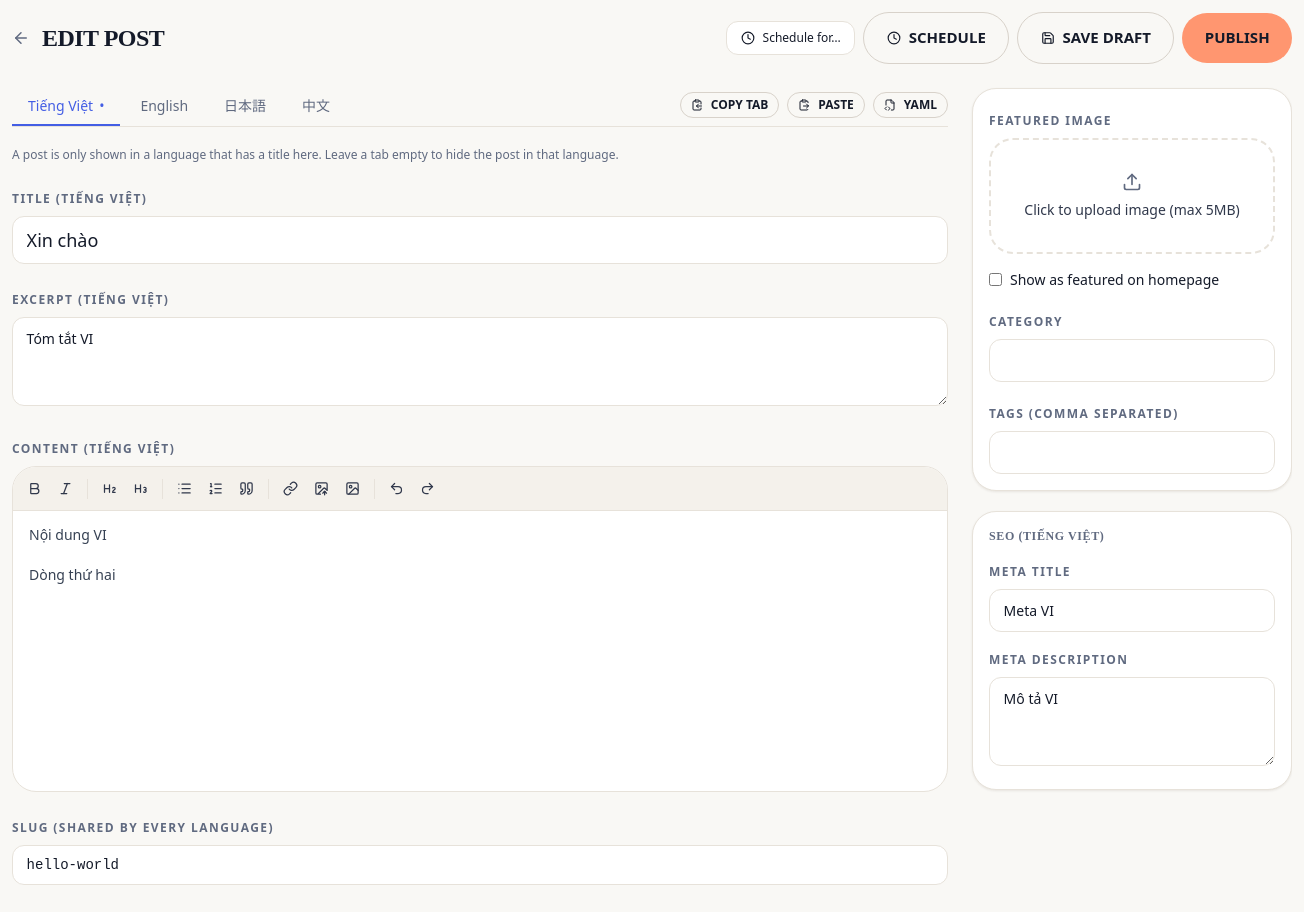
Test: PostEditor YAML view › rejects invalid YAML without touching the fields
Expected: the field labelled "Title (Tiếng Việt)" holds "Xin chào", left=12, top=216, right=948, bottom=264
Click the button "YAML" at (910, 105), box left=873, top=92, right=948, bottom=118
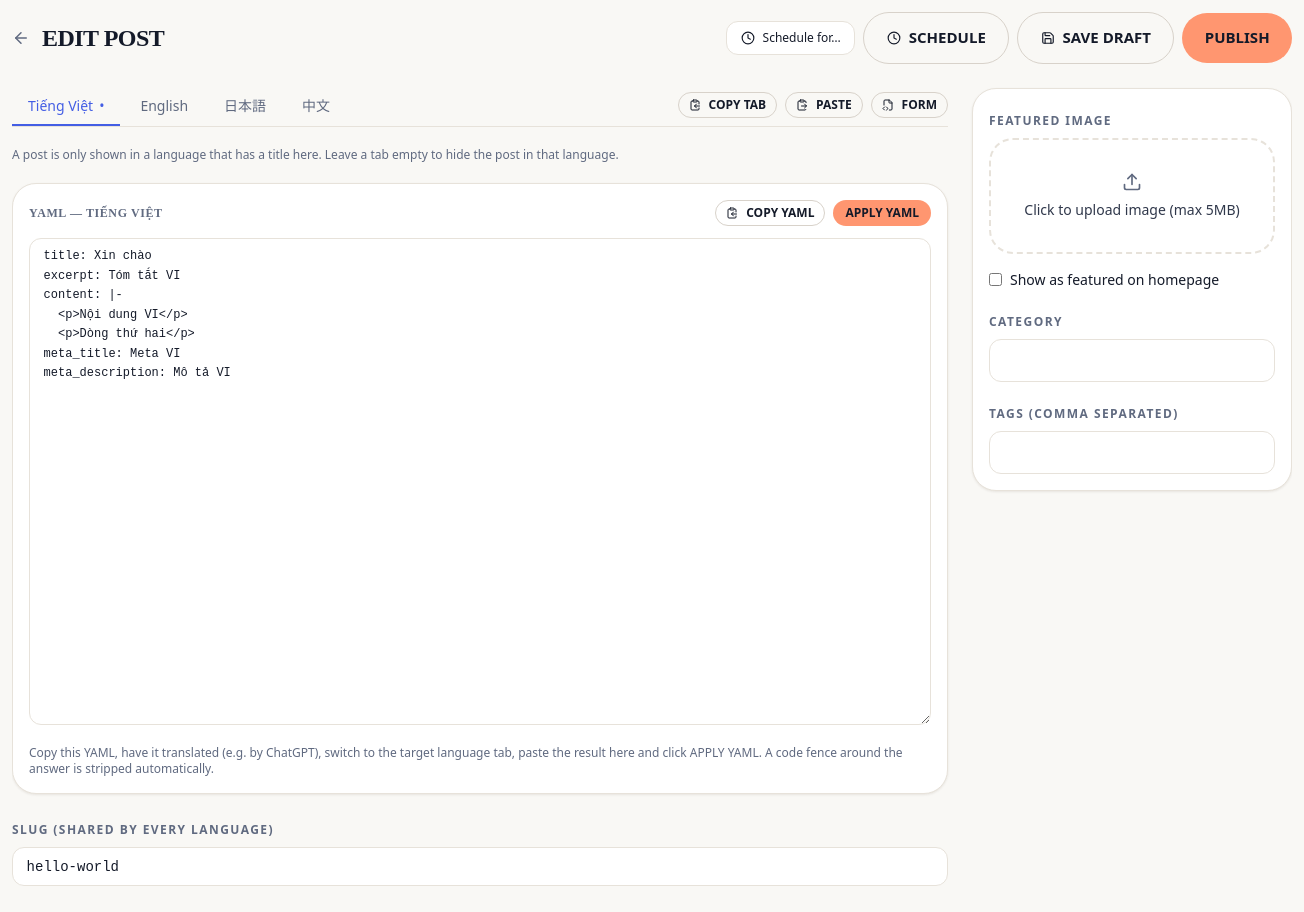
Replace the text in the text box named "yaml fields" with "title: [unclosed" at (480, 482), box left=29, top=238, right=931, bottom=725
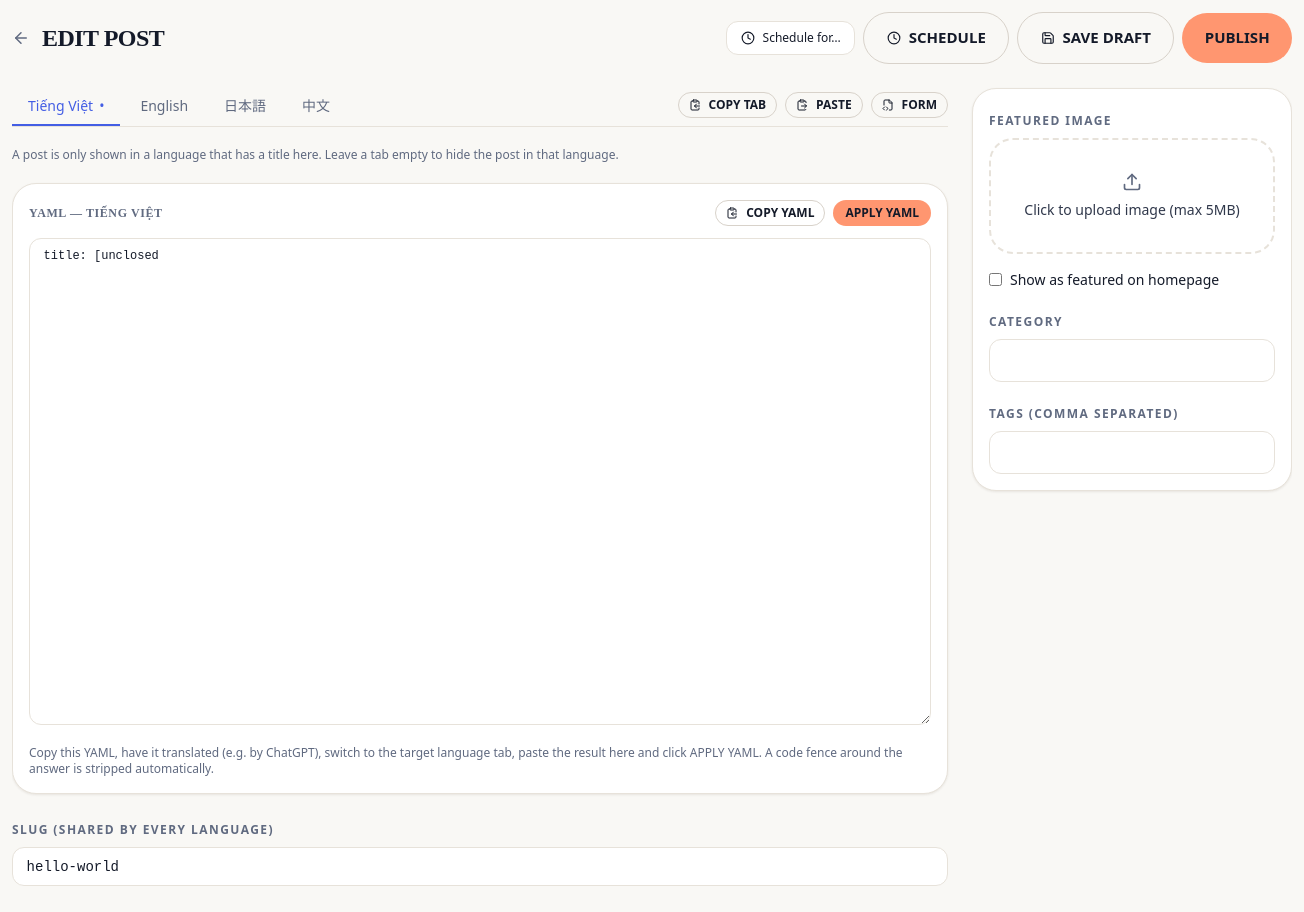
Click the button "APPLY YAML" at (882, 213), box left=834, top=200, right=931, bottom=226
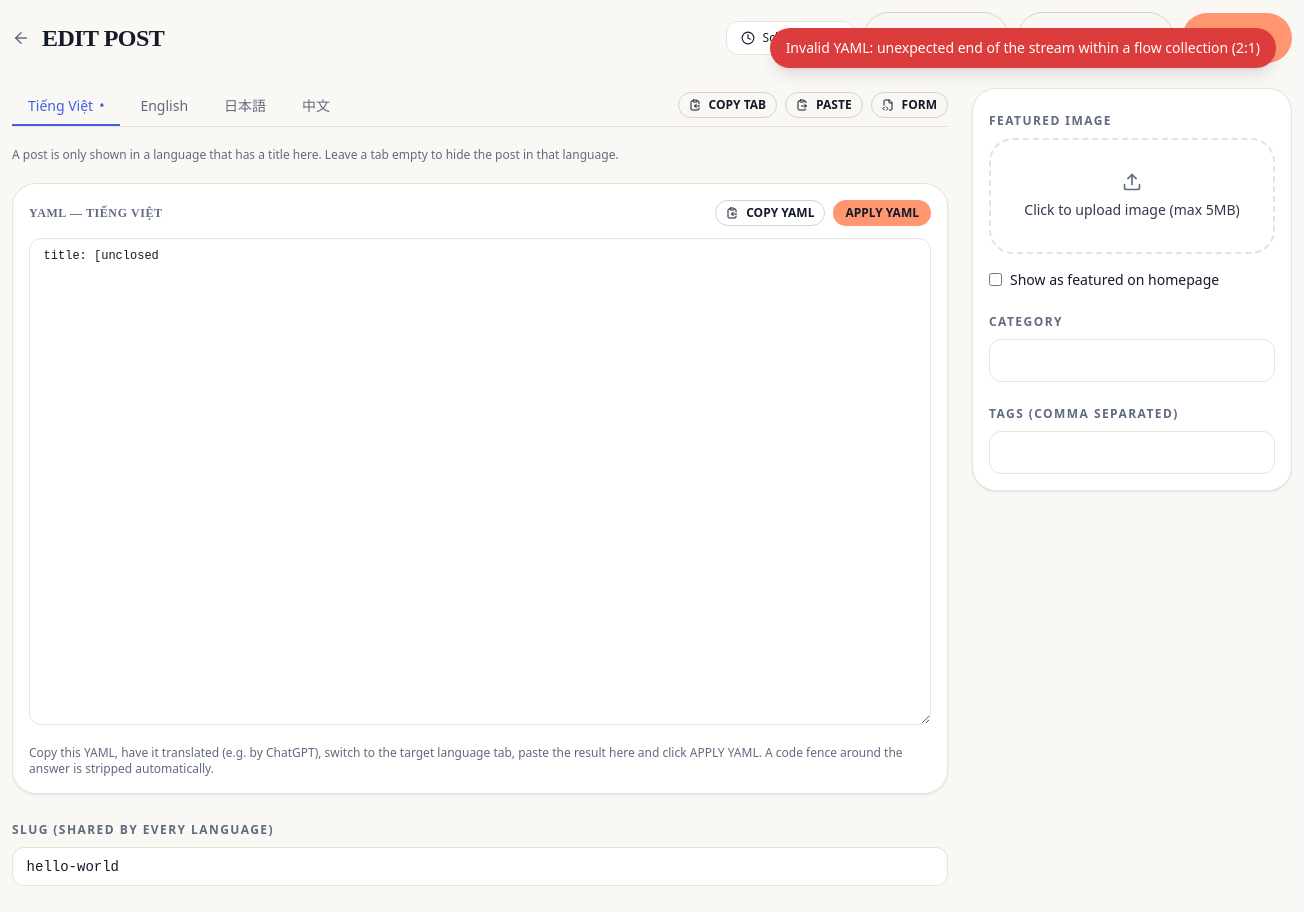
Expected: the text "Invalid YAML" is shown, left=786, top=38, right=1260, bottom=57
Click the button "FORM" at (909, 105), box left=871, top=92, right=948, bottom=118
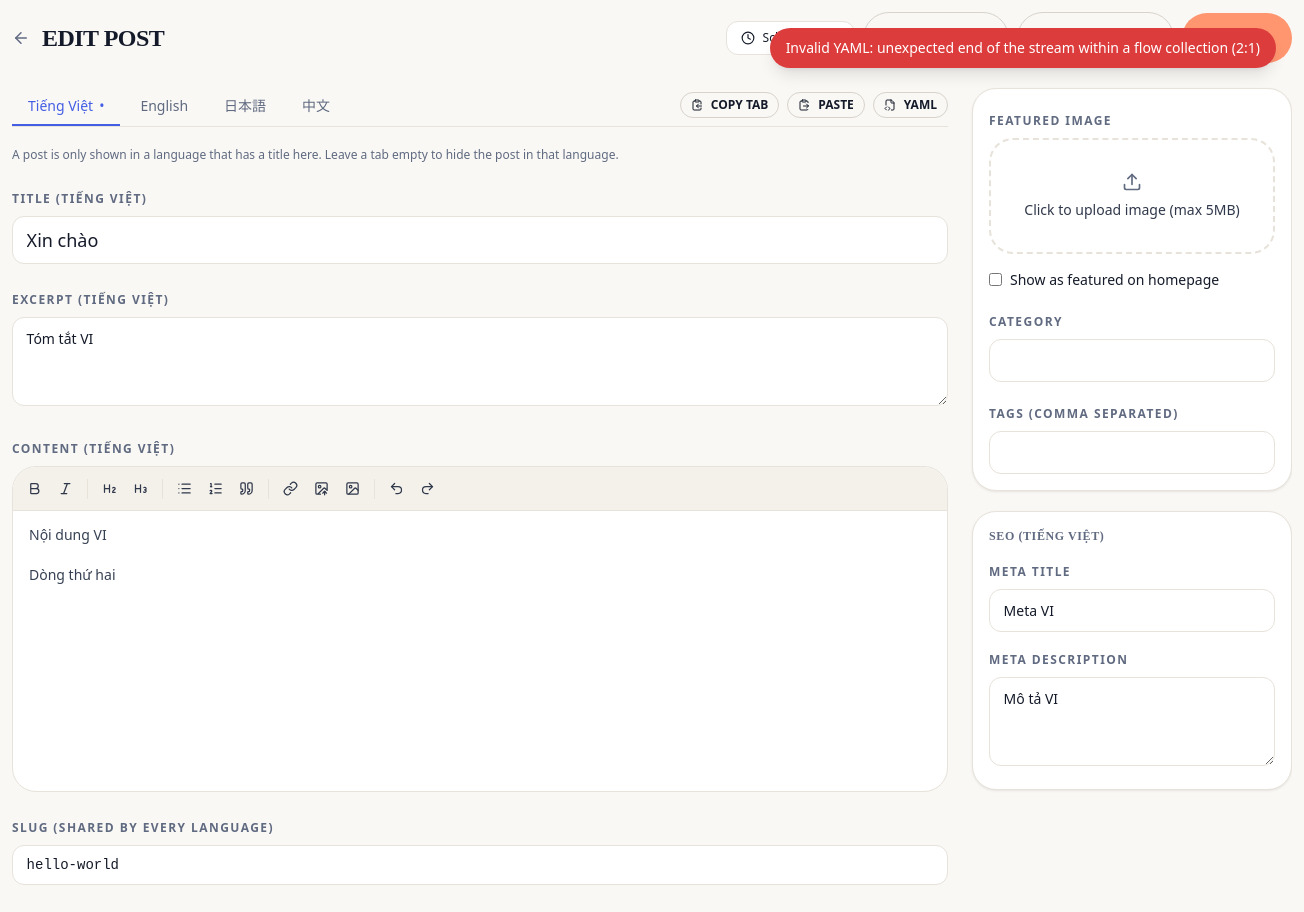
Expected: the field labelled "Title (Tiếng Việt)" holds "Xin chào", left=12, top=216, right=948, bottom=264
